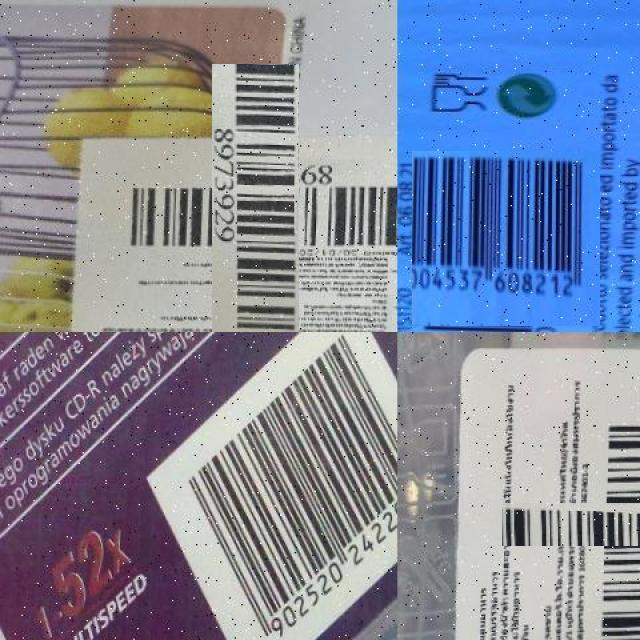Barcode: (142, 332, 398, 640), (163, 113, 349, 298), (414, 147, 596, 329), (549, 455, 640, 593)
